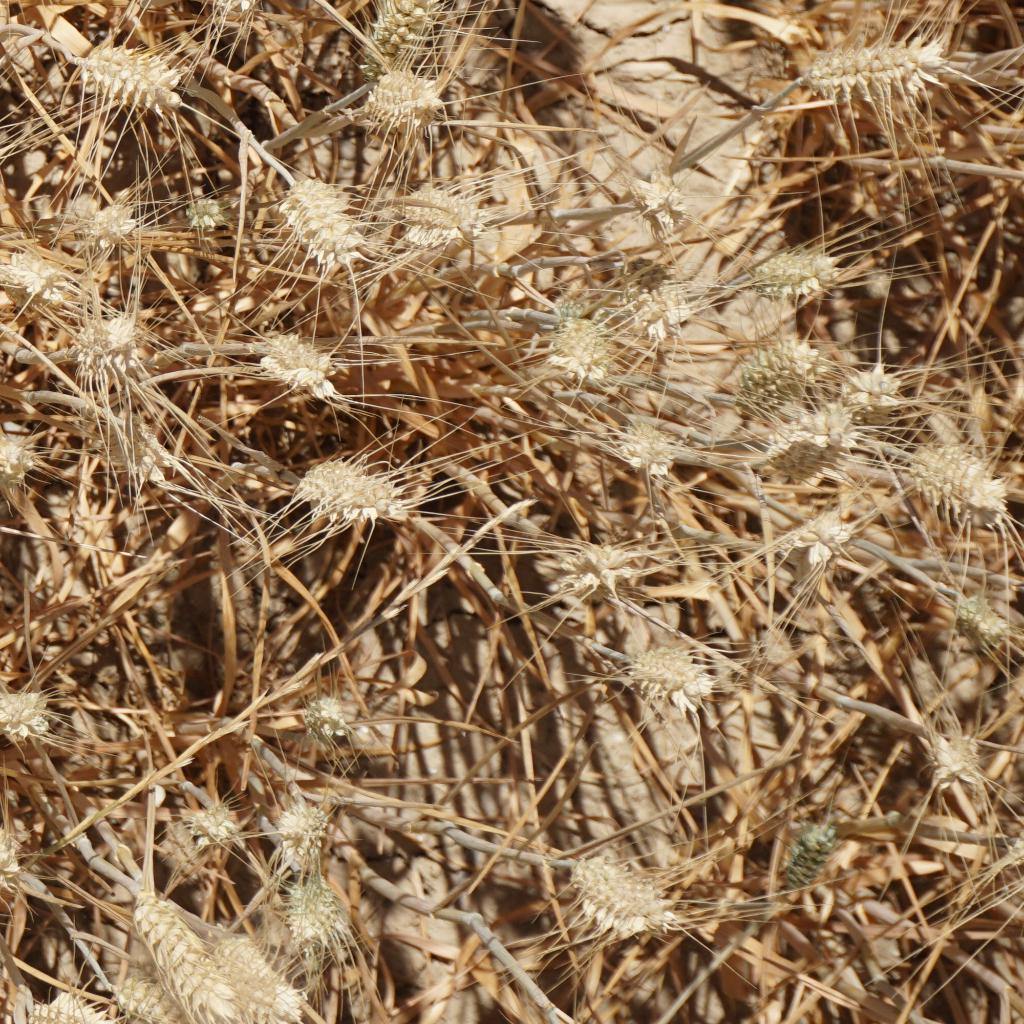0-0: (126, 887, 247, 1024), (796, 28, 960, 113), (275, 173, 388, 293), (750, 395, 874, 495), (888, 441, 1024, 532), (565, 850, 697, 941), (294, 448, 420, 537), (209, 927, 314, 1024), (739, 228, 859, 310), (385, 173, 496, 257), (57, 304, 163, 386), (81, 42, 197, 116), (0, 218, 98, 305), (267, 874, 364, 960), (247, 329, 351, 408), (533, 289, 618, 385), (775, 809, 854, 911), (49, 173, 141, 260), (82, 399, 176, 484), (724, 321, 825, 397), (626, 638, 719, 716), (366, 58, 450, 141), (271, 789, 352, 874), (844, 347, 935, 421), (604, 405, 685, 484), (557, 534, 644, 604), (789, 495, 867, 572), (630, 274, 705, 348), (918, 723, 991, 796), (361, 0, 446, 58), (0, 415, 55, 498), (616, 155, 679, 226), (0, 681, 67, 747), (183, 791, 253, 854), (294, 686, 359, 747), (26, 984, 118, 1024), (108, 974, 181, 1024), (0, 825, 43, 903), (169, 188, 240, 230), (198, 0, 279, 29)
